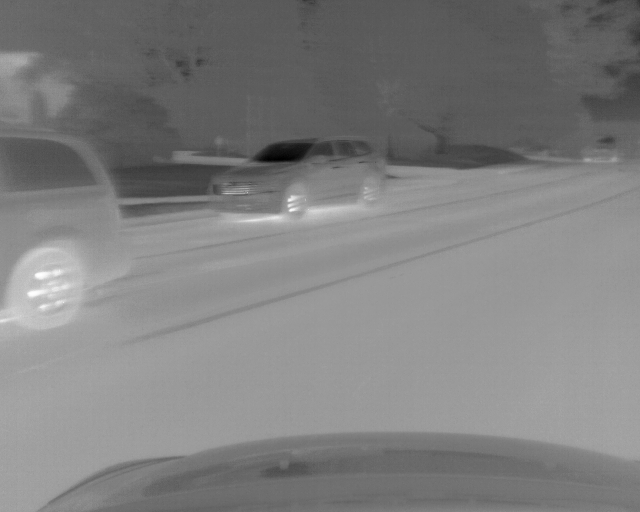car: (1, 126, 131, 330), (207, 136, 388, 220), (581, 136, 625, 168)
